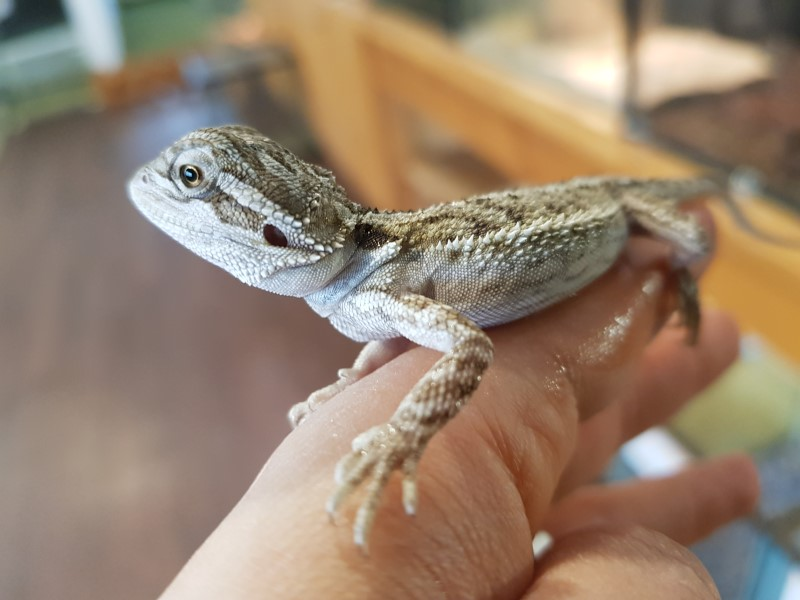bearded: (120, 120, 773, 552)
